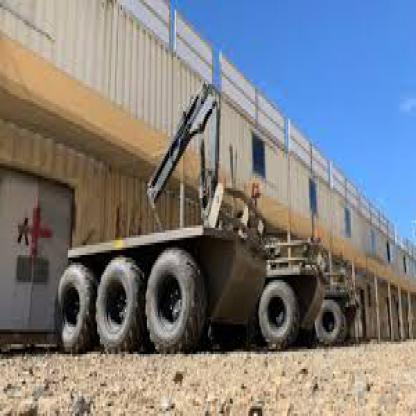UGV: (54, 184, 266, 353)
